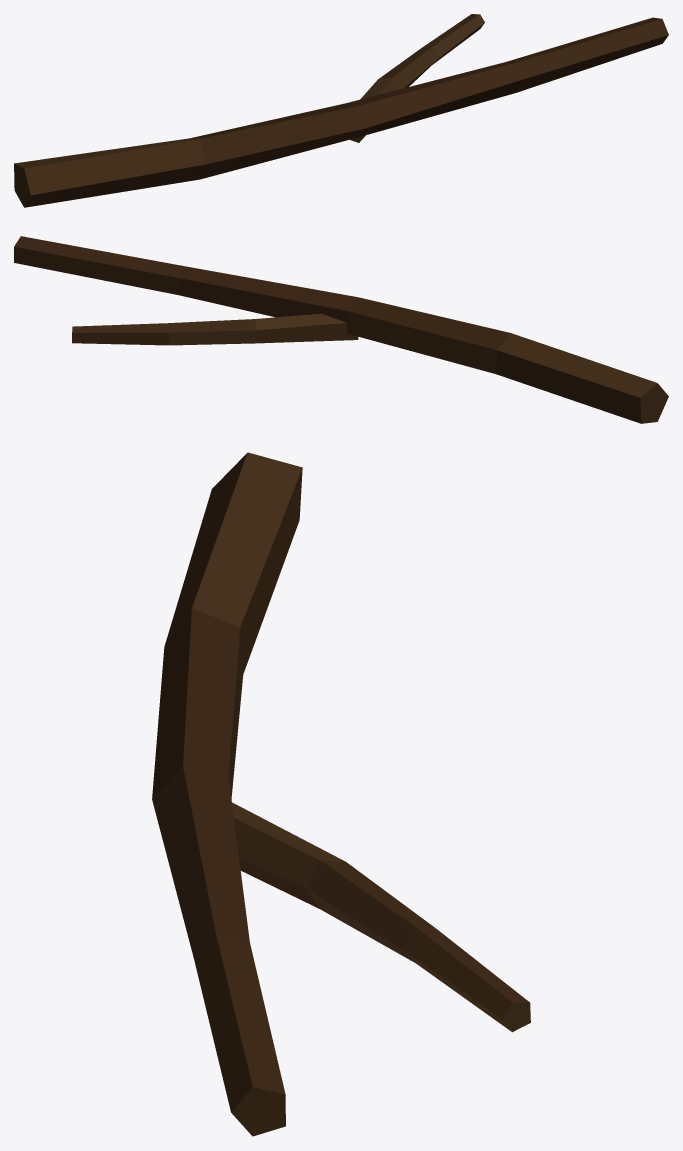
Rendered from stick_ground_forcella.glb.
3 renders of one model, top to bottom at view 1: azimuth 30°, elevation 25°; view 2: azimuth 150°, elevation 25°; view 3: azimuth 270°, elevation 25°, orthographic. The views are drawn at different scales.
Parts seen in each view (by area): view 1: stick_ground_forcella; view 2: stick_ground_forcella; view 3: stick_ground_forcella.
Boxes of the visible parts, <box> form: stick_ground_forcella: <box>14,14,668,207</box>; stick_ground_forcella: <box>14,236,668,423</box>; stick_ground_forcella: <box>152,452,530,1136</box>.
Size of the model in its own units: 1.01 by 0.063 by 0.2586.
